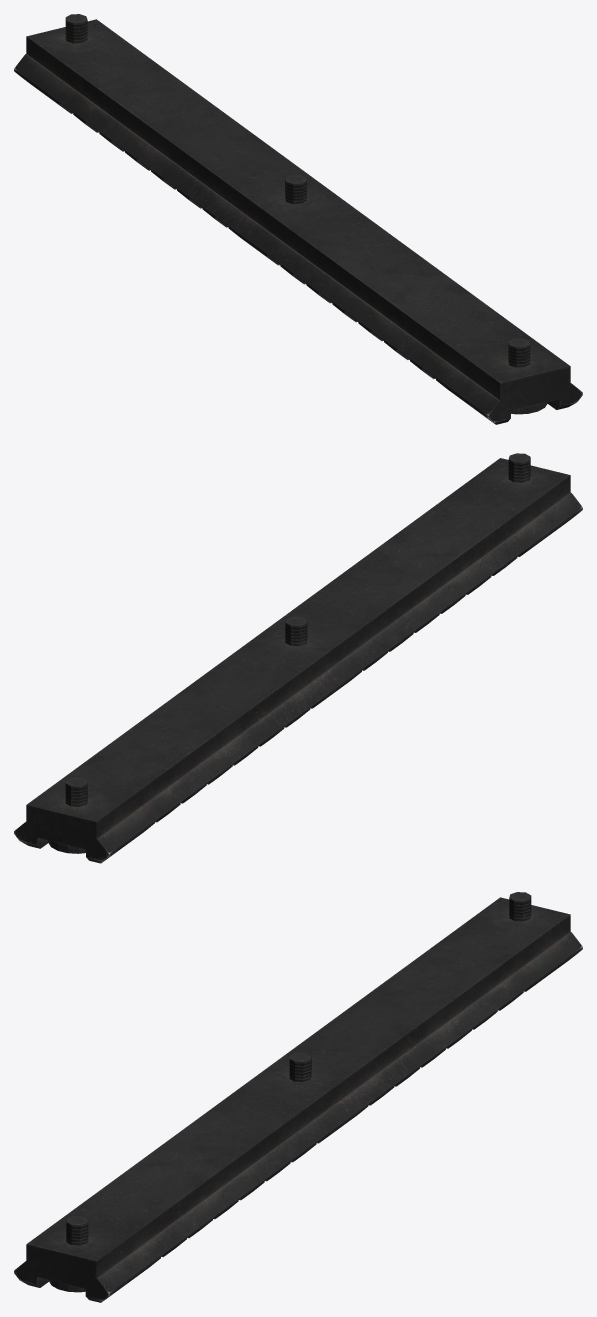
The picture shows the model from 3 angles, top to bottom: view 1: azimuth 30°, elevation 25°; view 2: azimuth 150°, elevation 25°; view 3: azimuth 330°, elevation 25°; orthographic projection.
Parts seen in each view (by area): view 1: TW_62444cb99f47004c781903eb_PZ_Import; view 2: TW_62444cb99f47004c781903eb_PZ_Import; view 3: TW_62444cb99f47004c781903eb_PZ_Import.
Boxes of the visible parts, x1=… form: TW_62444cb99f47004c781903eb_PZ_Import: x1=14, y1=14, x2=582, y2=424; TW_62444cb99f47004c781903eb_PZ_Import: x1=14, y1=453, x2=582, y2=863; TW_62444cb99f47004c781903eb_PZ_Import: x1=14, y1=892, x2=582, y2=1302.
Size of the model in its own units: 0.0123 by 0.1059 by 0.00789.
Materials: 1 (1 with a texture image).
